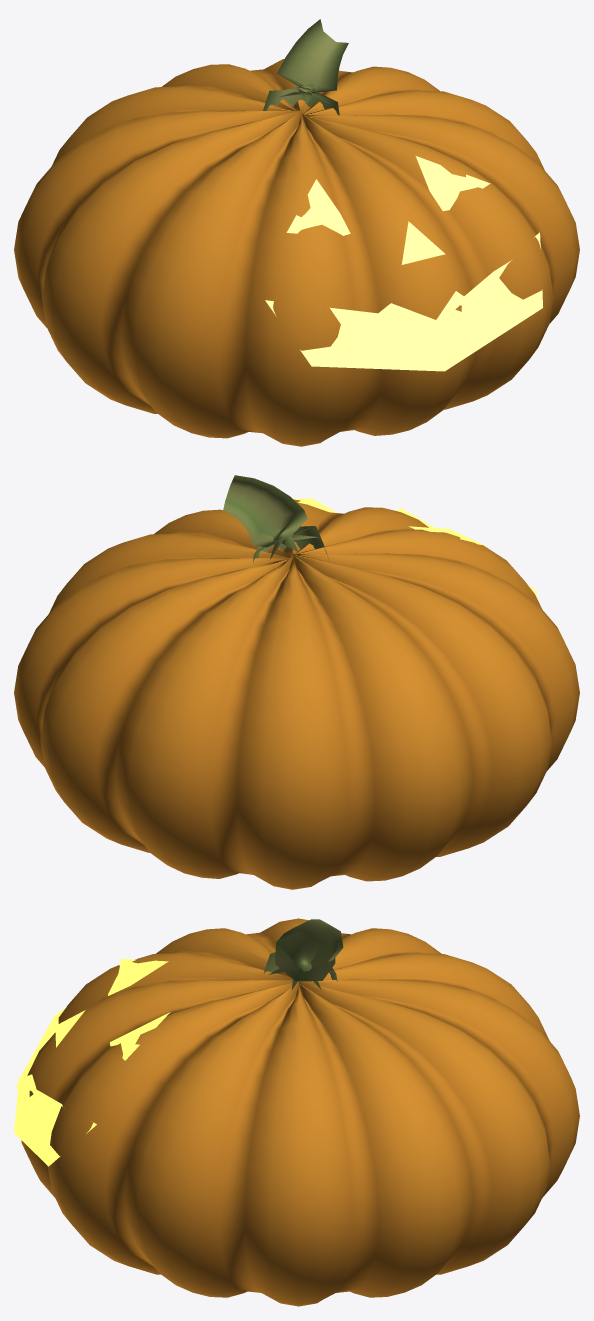
Rendered from pumpkin_squat.glb.
The picture shows the model from 3 angles, top to bottom: view 1: azimuth 30°, elevation 25°; view 2: azimuth 150°, elevation 25°; view 3: azimuth 270°, elevation 25°; orthographic projection.
Parts seen in each view (by area): view 1: body, face; view 2: body, face; view 3: body, face.
Part boxes in pixels (x1,y1,x2,y2): body: (14, 19, 579, 446); face: (265, 156, 542, 371); body: (14, 475, 579, 889); face: (293, 498, 536, 597); body: (21, 918, 579, 1306); face: (14, 959, 170, 1166).
Bounding box in the file's own units: 1 × 0.6892 × 1.01.
